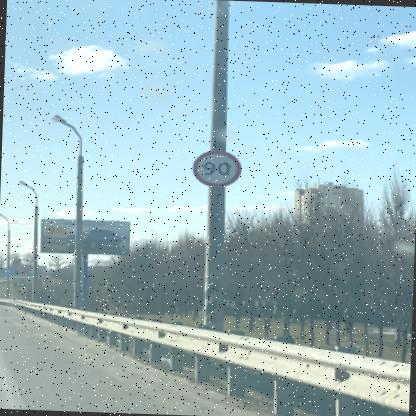speedlimit: (188, 148, 239, 186)
